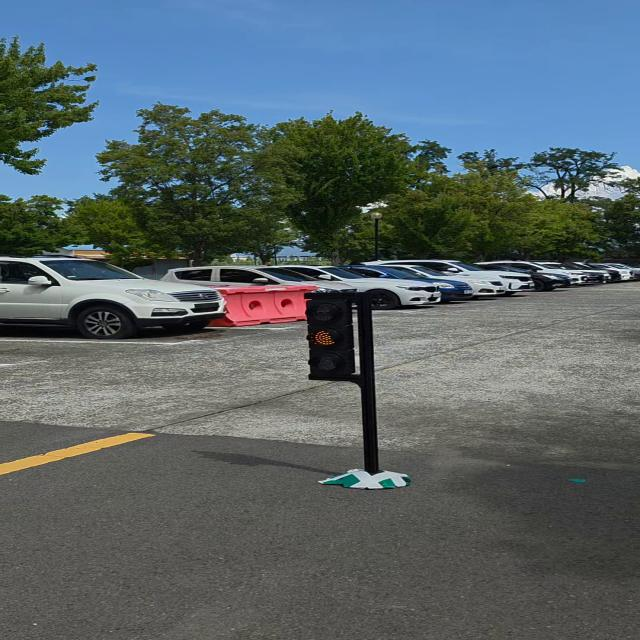yellow: (306, 299, 360, 377)
